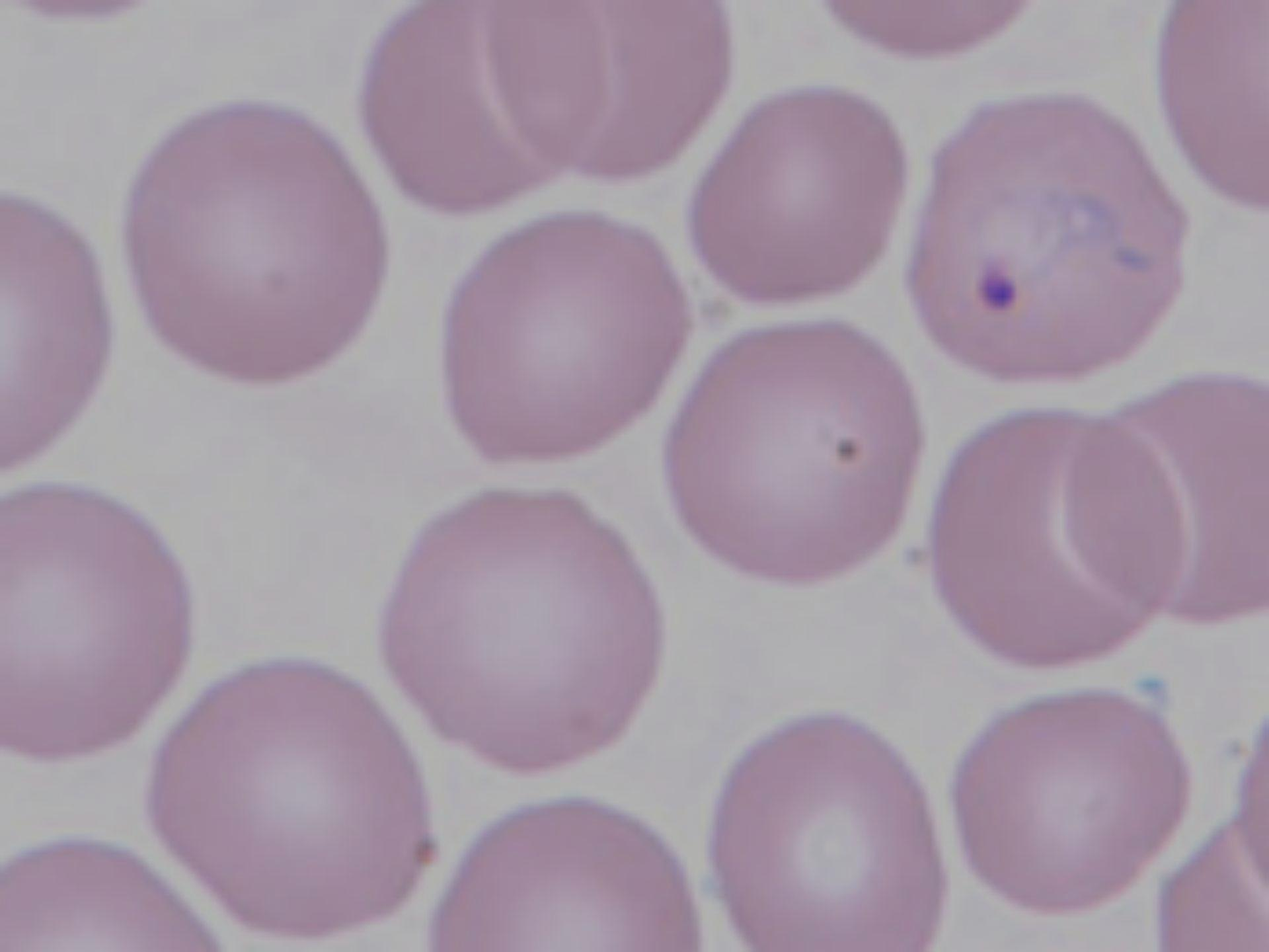Infected: (911, 97, 1178, 372)
Uninfected: (151, 662, 428, 934), (377, 494, 661, 759), (127, 104, 383, 377), (667, 321, 919, 578), (931, 411, 1178, 659), (442, 213, 684, 456), (711, 715, 947, 949), (1066, 372, 1269, 626), (953, 693, 1183, 910), (3, 489, 189, 750), (692, 89, 906, 310), (367, 2, 578, 213), (430, 800, 698, 949), (521, 0, 723, 177), (1163, 0, 1266, 205)
